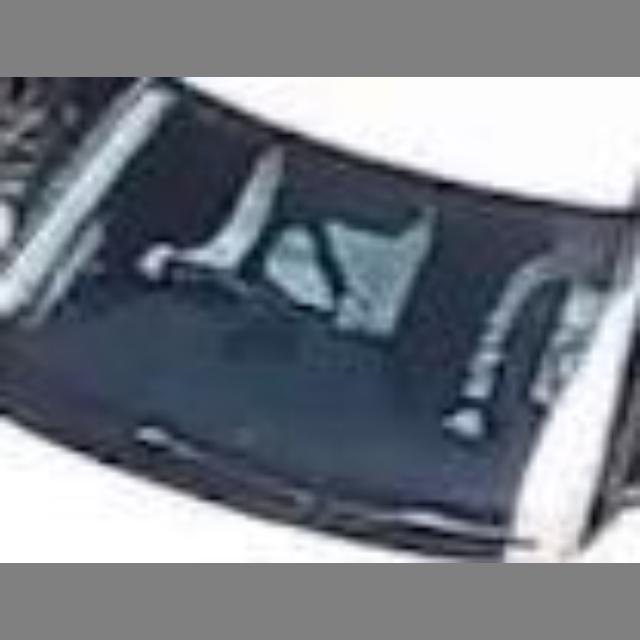pakai: (191, 126, 412, 397)
